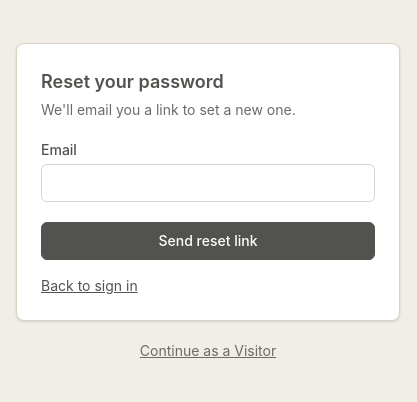
Scenario: PasswordResetRequestPage › falls back to its own wording when the failure is not an AuthError
In the field labelled "Email": (208, 183) [41, 164, 375, 202], type "visitor@example.com"
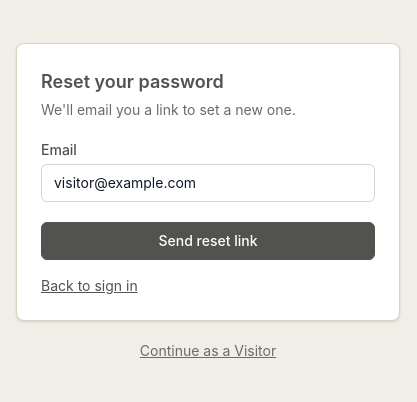
Click the button "Send reset link": (208, 241) [41, 222, 375, 260]
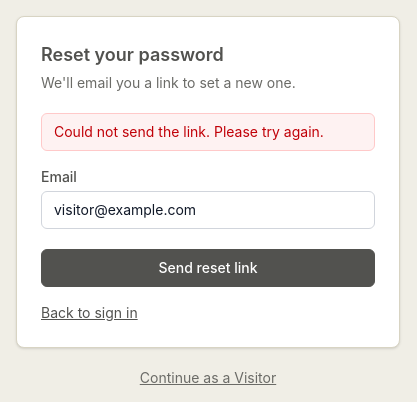
Result: the message shows "Could not send the link" at [54, 123, 324, 140]
